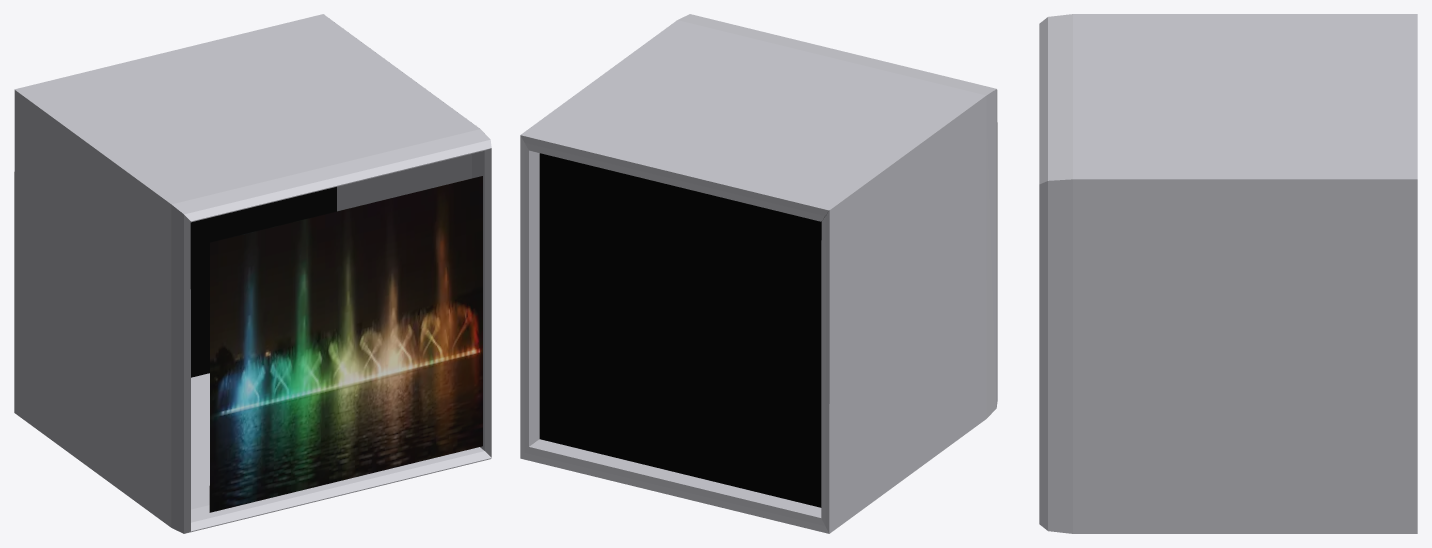
File: sh-contrib-colored-fountain-frame.glb
The picture shows the model from 3 angles, left to right: view 1: azimuth 30°, elevation 25°; view 2: azimuth 150°, elevation 25°; view 3: azimuth 270°, elevation 25°; orthographic projection. The views are drawn at different scales.
Parts seen in each view (by area): view 1: MetalFrame_Cylinder_Aluminium.001, Photo_Cube_Material_ColoredFountain, Frame_Black_Material.002; view 2: MetalFrame_Cylinder_Aluminium.001, Frame_Black_Material.002; view 3: MetalFrame_Cylinder_Aluminium.001.
Part boxes in pixels (bbox=[...]): MetalFrame_Cylinder_Aluminium.001: bbox=[14, 14, 491, 533]; Photo_Cube_Material_ColoredFountain: bbox=[209, 176, 482, 512]; Frame_Black_Material.002: bbox=[190, 187, 336, 377]; MetalFrame_Cylinder_Aluminium.001: bbox=[520, 14, 997, 533]; Frame_Black_Material.002: bbox=[539, 153, 829, 507]; MetalFrame_Cylinder_Aluminium.001: bbox=[1039, 14, 1417, 533].
Bounding box in the file's own units: 1 × 1 × 1.
3 materials, 1 textured.
